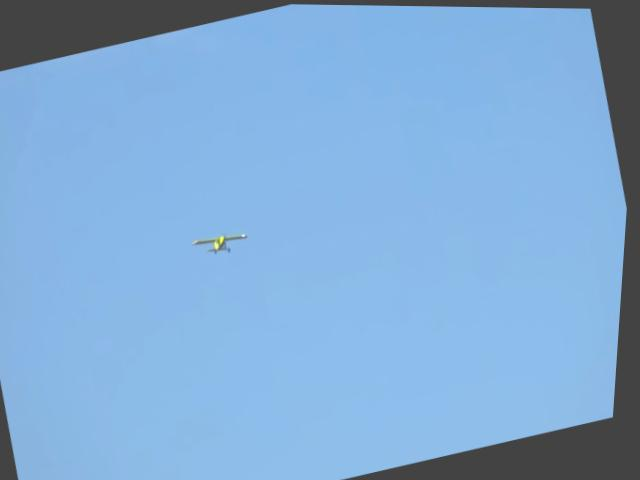plane: (193, 226, 253, 261)
